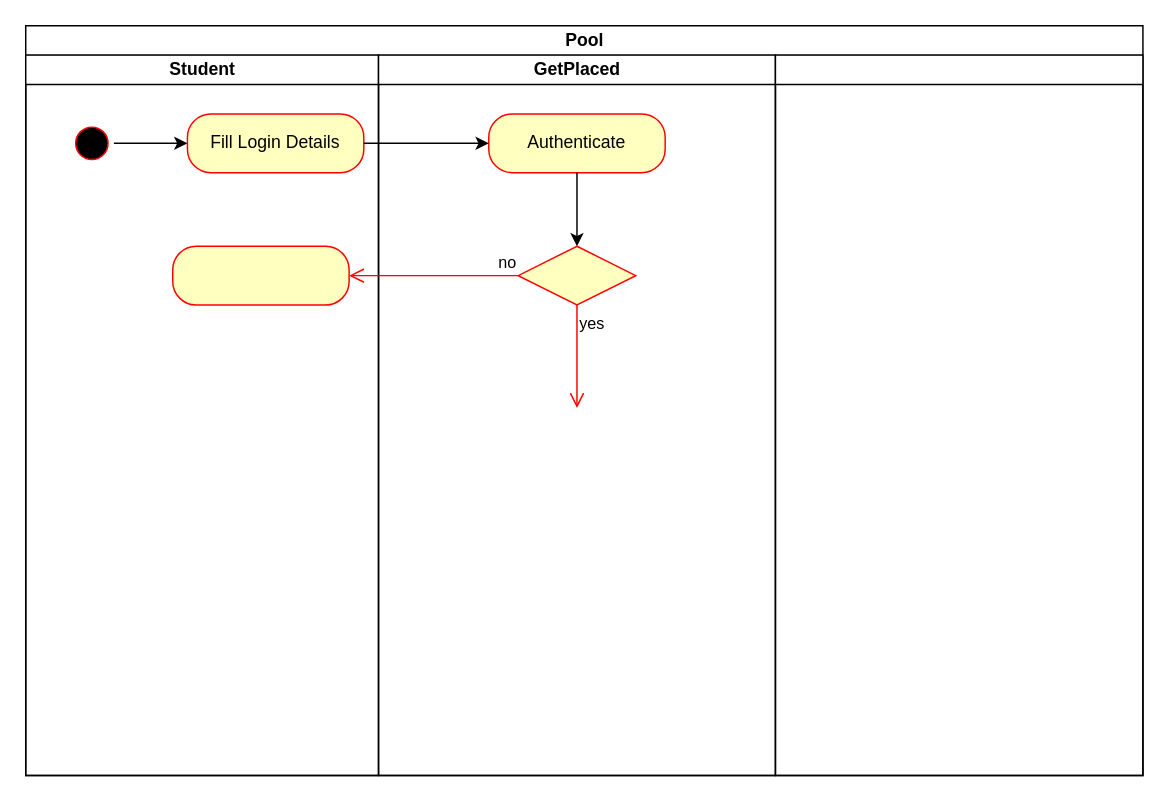
Some shapes in this 1169 by 801 pixel diagram are drawn without their labels. The centre of each missing label's shape, as x and y in pixels:
Company: the point at 958,414
Display Error: the point at 260,275
